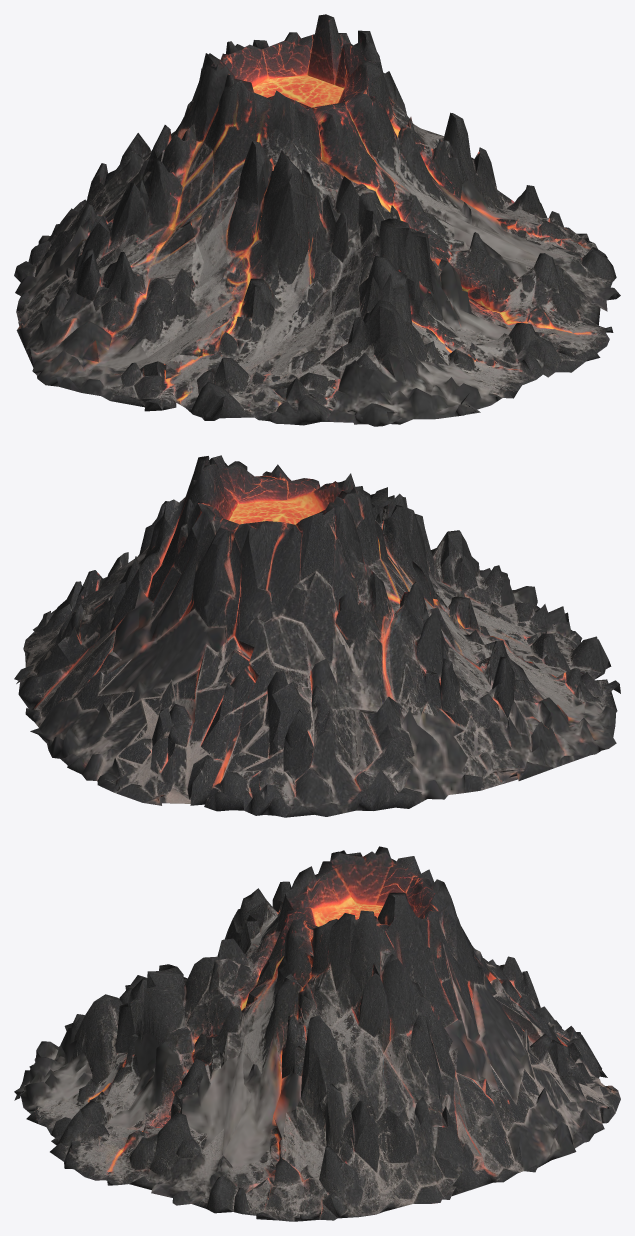
File: volcano.glb
3 views of the same model, one above another, from view 1: azimuth 30°, elevation 25°; view 2: azimuth 150°, elevation 25°; view 3: azimuth 270°, elevation 25° (orthographic). The views are drawn at different scales.
Visible parts, largest first — view 1: volcano; view 2: volcano; view 3: volcano.
Part boxes in pixels (x1=…): volcano: x1=14, y1=14, x2=620, y2=426; volcano: x1=14, y1=455, x2=620, y2=817; volcano: x1=14, y1=846, x2=620, y2=1221.
Size of the model in its own units: 189 by 77.4 by 186.
1 material, 1 textured.
